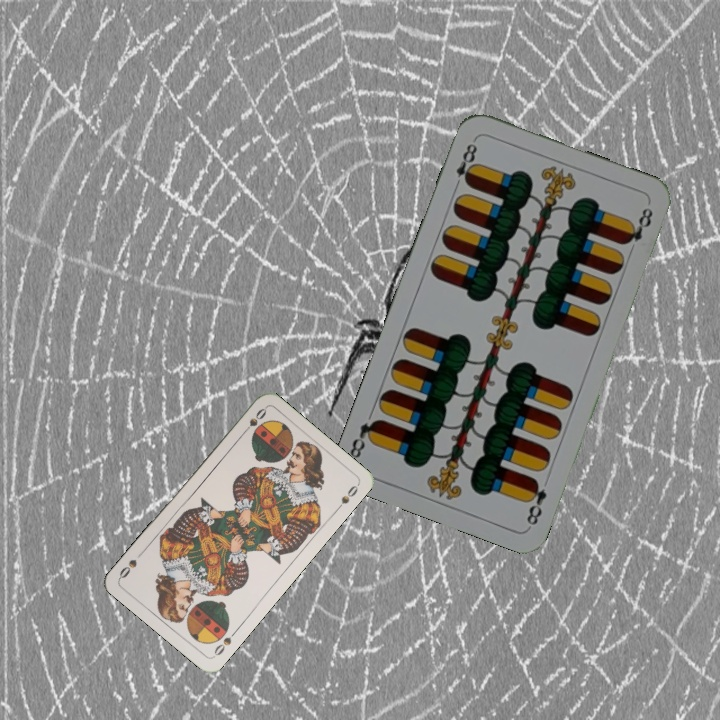E8: (450, 136, 480, 192), (522, 475, 550, 528)
SO: (238, 404, 269, 438), (210, 626, 240, 660)
